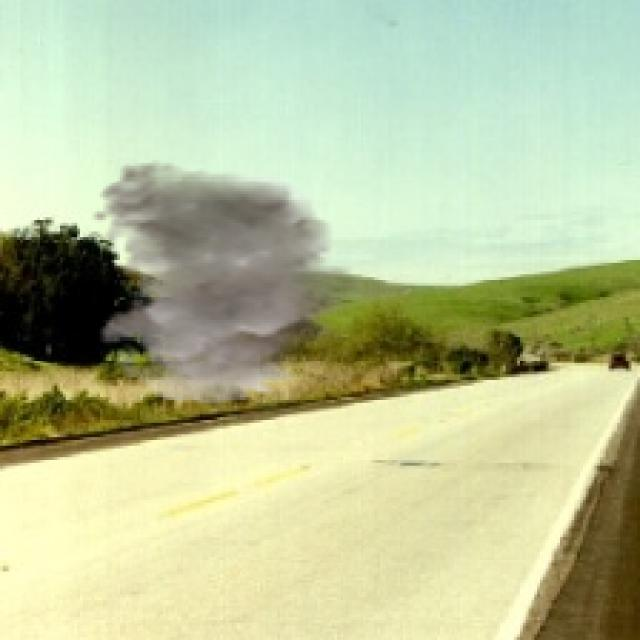smoke: (92, 160, 368, 406)
